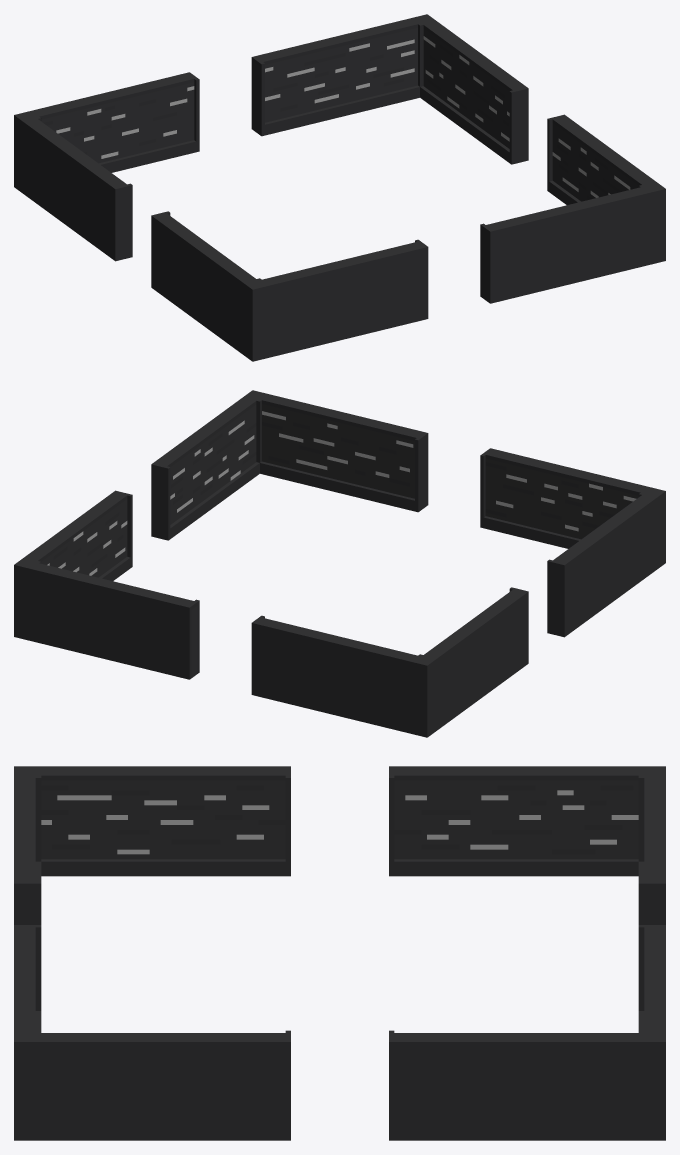
File: 4doors.obj
The picture shows the model from 3 angles, top to bottom: view 1: azimuth 30°, elevation 25°; view 2: azimuth 150°, elevation 25°; view 3: azimuth 270°, elevation 25°; orthographic projection. The views are drawn at different scales.
Size of the model in its own units: 12 by 2 by 12.
